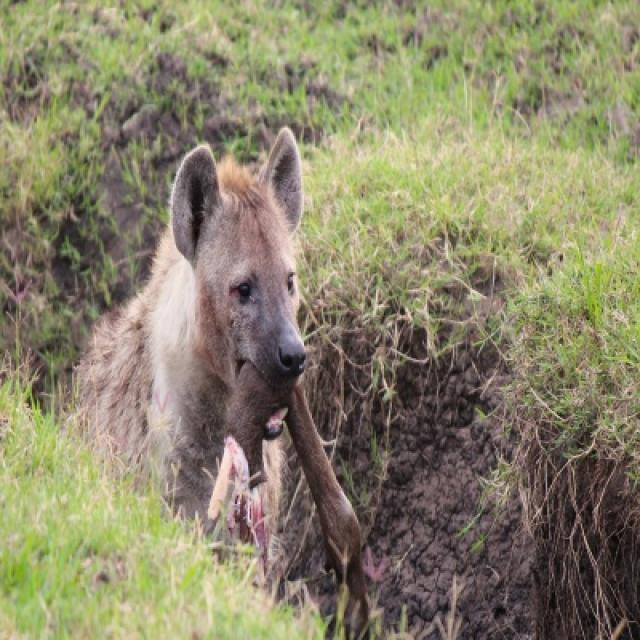hyena: (82, 128, 365, 603)
